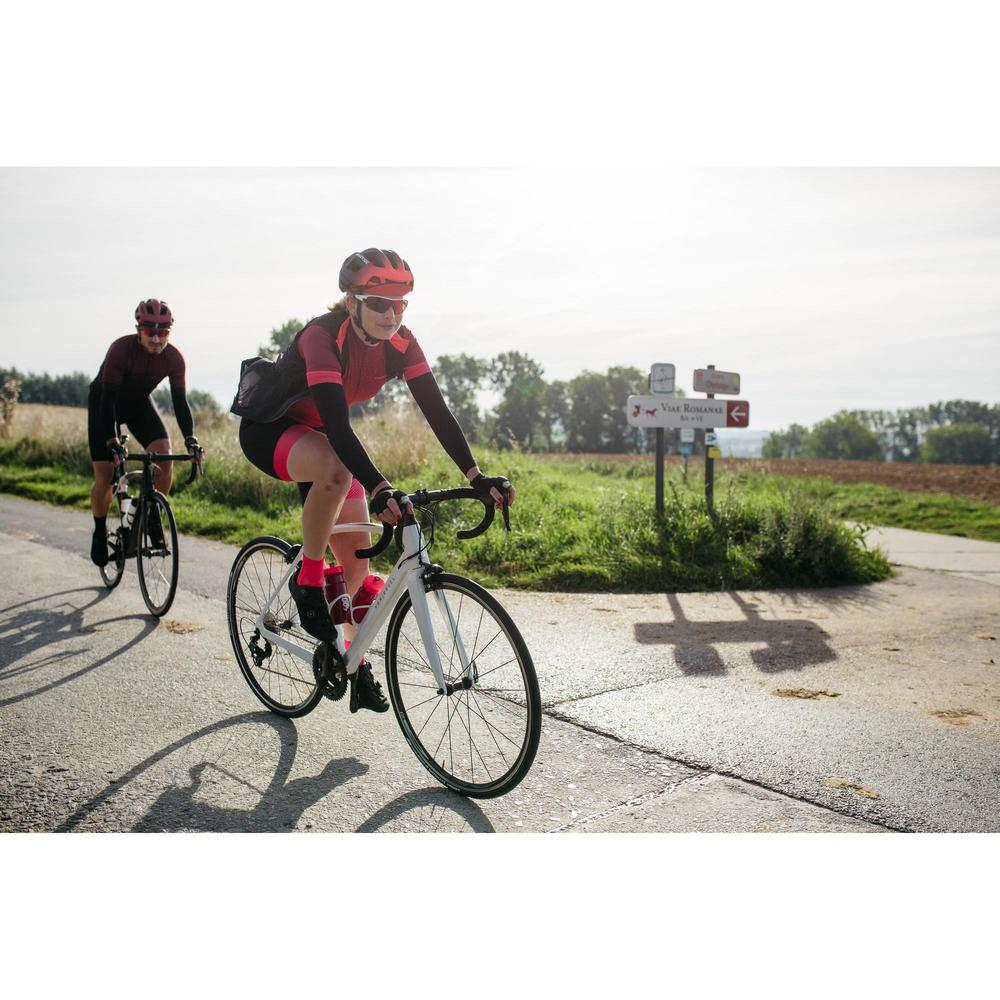RoadBike: (214, 471, 538, 794), (76, 438, 205, 617)
